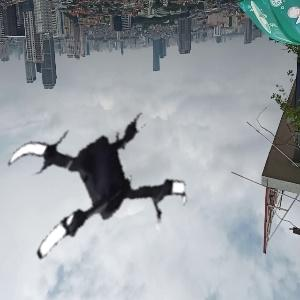drone: (4, 84, 204, 284)
